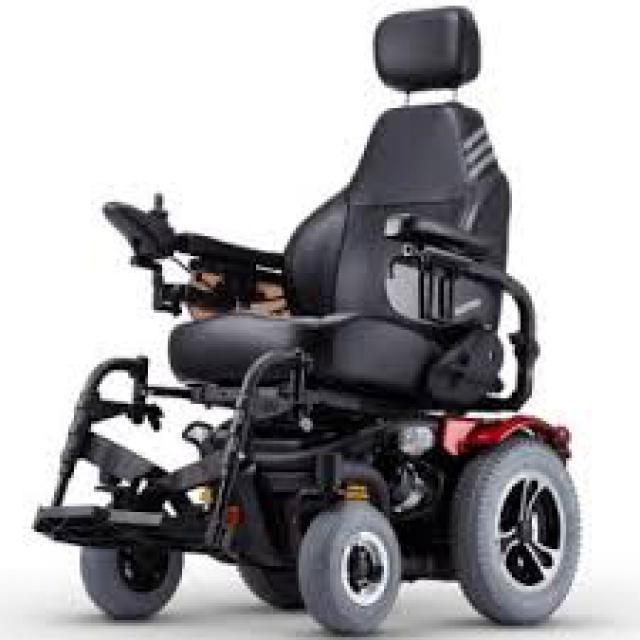wheelchairs: (40, 15, 578, 618)
